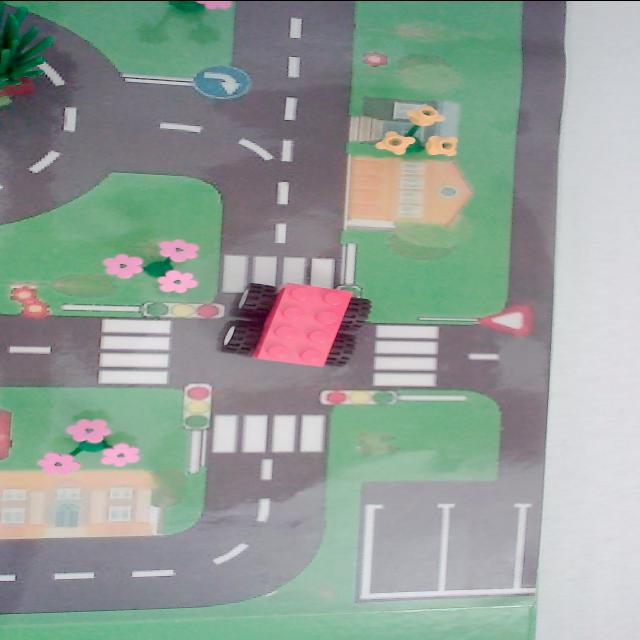Car: (206, 262, 381, 378)
Flower: (36, 404, 152, 482), (96, 224, 210, 302), (362, 98, 464, 164)
